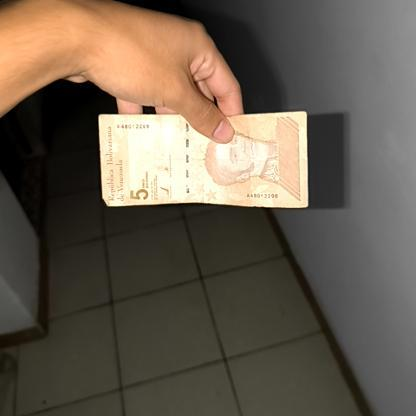five-front-vef: (99, 111, 308, 208)
